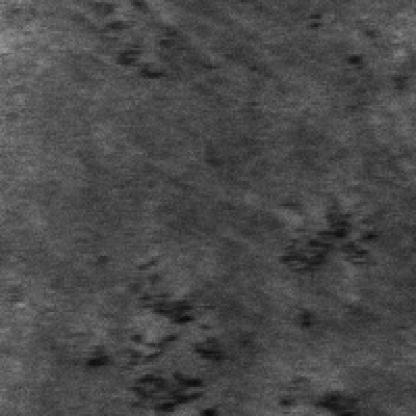rolled-in_scale: (87, 252, 237, 414), (278, 193, 378, 333), (92, 0, 210, 81), (276, 370, 375, 412)
